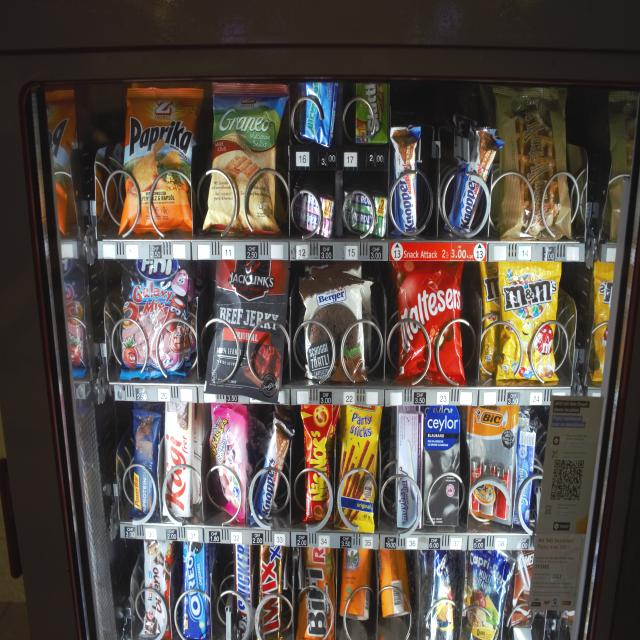airwaves_menthoneucalyptus_riegel_14_1_50173167: (300, 80, 338, 144)
berger____: (301, 277, 370, 381)
bueno___43__4008400320328: (141, 537, 173, 636)
c-swiss_dosenabisicetea__33__9120025930135: (340, 541, 374, 622), (381, 548, 410, 622)
caprisun_multivitamin__20__4000177605004: (465, 541, 508, 640), (422, 547, 463, 640)
fini_galaxymix_packung_100_1_8410525150364: (123, 260, 199, 374)
fini_jellykisses_packung_80_1_8410525116704: (207, 405, 248, 524)
jacklinks_beefjerkyorginal__25__4047751730219: (209, 257, 291, 394)
jlbrichard_gauffre__90__5410495002000: (501, 85, 570, 237)
kagi___50__7610046000259: (161, 399, 192, 522)
knoppers_riegel____4035800488808: (449, 120, 494, 232), (387, 124, 428, 239), (256, 414, 288, 521)
lorenz_nicnacs__40__4018077798818: (298, 400, 339, 524)
malburner_partysticks__40__7610200279682: (339, 403, 381, 529)
maltesers___100__5000159023061: (392, 257, 470, 385)
mnms_gelb__45__40111445: (495, 256, 565, 386)
oreo___66__84100733: (181, 536, 210, 640)
powerbar_proteinplusschoko__55__4029679520028: (132, 406, 162, 520)
skittles_sour_riegel_51_1_: (353, 80, 387, 150)
snickers___50__5000159461122: (232, 538, 257, 640)
stimorol_spearmint_riegel_14_1_: (341, 188, 388, 237)
stimorol_wildcherry_riegel_14_1_57060330: (294, 185, 331, 242)
twix___50__5000159459228: (257, 540, 287, 640)
zweifel_graneochilli__100__7610095184009: (200, 80, 287, 230)
zweifel_paprika__90__7610095013002: (114, 84, 200, 236)
